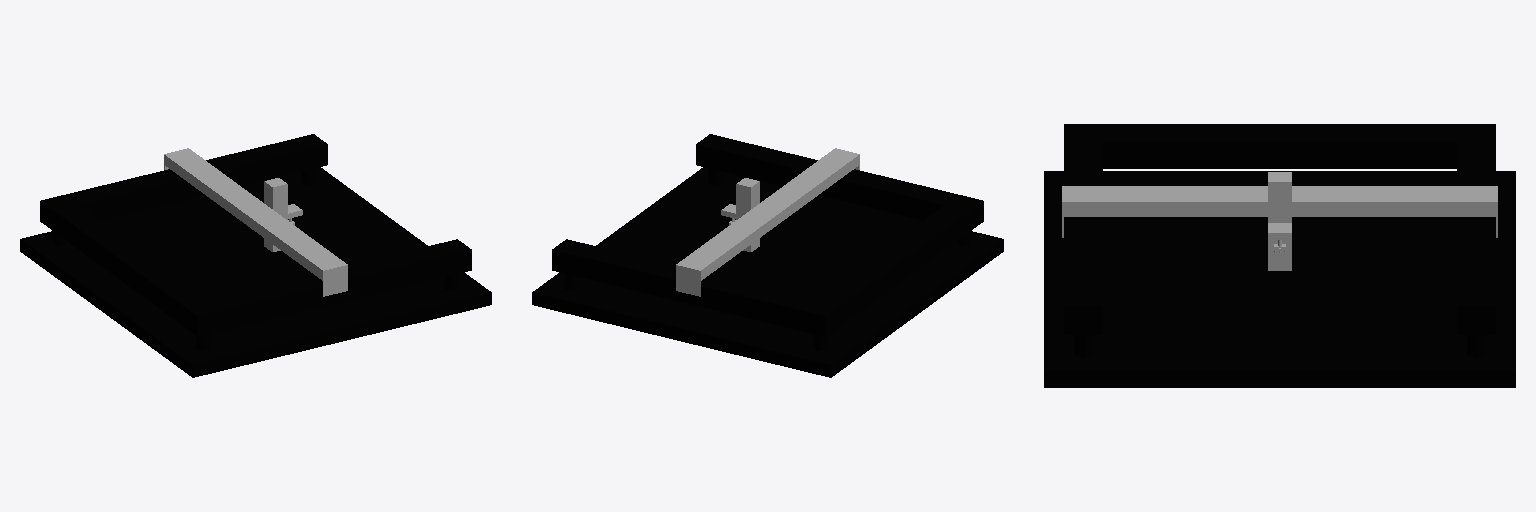
URDF robot description (robot_system):
<?xml version="1.0" ?>
<!-- =================================================================================== -->
<!-- |    This document was autogenerated by xacro from src/robot_system_description/urdf/robot_system.xacro | -->
<!-- |    EDITING THIS FILE BY HAND IS NOT RECOMMENDED                                 | -->
<!-- =================================================================================== -->
<robot name="robot_system">
  <material name="silver">
    <color rgba="0.700 0.700 0.700 1.000"/>
  </material>
  <material name="black">
    <color rgba="0.020 0.020 0.020 1.000"/>
  </material>
  <link name="world"/>
  <joint name="fixed_to_world" type="fixed">
    <parent link="world"/>
    <child link="base_link"/>
  </joint>
  <link name="base_link">
    <inertial>
      <origin rpy="0 0 0" xyz="-0.036965141881106514 -9.562908641042548e-17 0.06102885117512971"/>
      <mass value="764.5040316870028"/>
      <inertia ixx="110.516115" ixy="0.0" ixz="2.938225" iyy="99.10948" iyz="0.0" izz="203.495293"/>
    </inertial>
    <visual>
      <origin rpy="0 0 0" xyz="0 0 0"/>
      <geometry>
        <mesh filename="package://robot_system_description/meshes/base_link.stl" scale="0.001 0.001 0.001"/>
      </geometry>
      <material name="black"/>
    </visual>
    <collision>
      <origin rpy="0 0 0" xyz="0 0 0"/>
      <geometry>
        <mesh filename="package://robot_system_description/meshes/base_link.stl" scale="0.001 0.001 0.001"/>
      </geometry>
    </collision>
    <collision name="base_work_surface_collision">
      <origin rpy="0 0 0" xyz="0 0 0.0495"/>
      <geometry>
        <box size="1.2 1.2 0.001"/>
      </geometry>
    </collision>
  </link>
  <link name="y_link_1">
    <inertial>
      <origin rpy="0 0 0" xyz="0.030000000000000013 0.0 0.0"/>
      <mass value="0.18"/>
      <inertia ixx="0.000991490446" ixy="0.0" ixz="0.0" iyy="0.000991490446" iyz="0.0" izz="0.000108"/>
    </inertial>
    <visual>
      <origin rpy="0 0 0" xyz="-0.05 -0.0 -0.225"/>
      <geometry>
        <mesh filename="package://robot_system_description/meshes/y_link_1.stl" scale="0.001 0.001 0.001"/>
      </geometry>
      <material name="silver"/>
    </visual>
    <collision>
      <origin rpy="0 0 0" xyz="-0.05 -0.0 -0.225"/>
      <geometry>
        <mesh filename="package://robot_system_description/meshes/y_link_1.stl" scale="0.001 0.001 0.001"/>
      </geometry>
    </collision>
  </link>
  <link name="z_link_1">
    <inertial>
      <origin rpy="0 0 0" xyz="0.030000000000000013 -3.947459643111668e-18 0.0"/>
      <mass value="0.09"/>
      <inertia ixx="0.000029936306" ixy="0.0" ixz="0.0" iyy="0.000029936306" iyz="0.0" izz="0.000053980892"/>
    </inertial>
    <visual>
      <origin rpy="0 0 0" xyz="-0.11 -0.0 -0.225"/>
      <geometry>
        <mesh filename="package://robot_system_description/meshes/z_link_1.stl" scale="0.001 0.001 0.001"/>
      </geometry>
      <material name="silver"/>
    </visual>
    <collision>
      <origin rpy="0 0 0" xyz="-0.11 -0.0 -0.225"/>
      <geometry>
        <mesh filename="package://robot_system_description/meshes/z_link_1.stl" scale="0.001 0.001 0.001"/>
      </geometry>
    </collision>
  </link>
  <link name="theta_link_1">
    <inertial>
      <origin rpy="0 0 0" xyz="0.0001732869481511634 -1.9700445167097035e-18 -0.0303093012095626"/>
      <mass value="0.05"/>
      <inertia ixx="0.000008476712" ixy="0.0" ixz="0.0" iyy="0.000007063927" iyz="0.0" izz="0.000004238356"/>
    </inertial>
    <visual>
      <origin rpy="0 0 0" xyz="-0.14 0.0 -0.215"/>
      <geometry>
        <mesh filename="package://robot_system_description/meshes/theta_link_1.stl" scale="0.001 0.001 0.001"/>
      </geometry>
      <material name="silver"/>
    </visual>
    <collision name="picker_contact_collision">
      <origin rpy="0 0 0" xyz="0 0 -0.045"/>
      <geometry>
        <cylinder length="0.010" radius="0.0035"/>
      </geometry>
    </collision>
  </link>
  <link name="x_link_1">
    <inertial>
      <origin rpy="0 0 0" xyz="8.91814442532711e-18 0.55 0.07933333333333334"/>
      <mass value="0.45"/>
      <inertia ixx="0.04749504459" ixy="0.0" ixz="0.0" iyy="0.000450802548" iyz="0.0" izz="0.04779425478"/>
    </inertial>
    <visual>
      <origin rpy="0 0 0" xyz="-0.0 0.55 -0.165"/>
      <geometry>
        <mesh filename="package://robot_system_description/meshes/x_link_1.stl" scale="0.001 0.001 0.001"/>
      </geometry>
      <material name="silver"/>
    </visual>
    <collision>
      <origin rpy="0 0 0" xyz="-0.0 0.55 -0.165"/>
      <geometry>
        <mesh filename="package://robot_system_description/meshes/x_link_1.stl" scale="0.001 0.001 0.001"/>
      </geometry>
    </collision>
  </link>
  <joint name="joint_y" type="prismatic">
    <origin rpy="0 0 0" xyz="0.05 0.55 0.06"/>
    <parent link="x_link_1"/>
    <child link="y_link_1"/>
    <axis xyz="0.0 -1.0 0.0"/>
    <limit effort="8" lower="-0.405" upper="0.405" velocity="0.2"/>
    <dynamics damping="3.0" friction="0.0"/>
  </joint>
  <joint name="joint_z" type="prismatic">
    <origin rpy="0 0 0" xyz="0.06 0.0 0.0"/>
    <parent link="y_link_1"/>
    <child link="z_link_1"/>
    <axis xyz="0.0 0.0 1.0"/>
    <limit effort="6" lower="-0.115" upper="0.115" velocity="0.25"/>
    <dynamics damping="0.8" friction="0.0"/>
  </joint>
  <joint name="joint_theta" type="continuous">
    <origin rpy="0 0 0" xyz="0.03 -0.0 -0.01"/>
    <parent link="z_link_1"/>
    <child link="theta_link_1"/>
    <axis xyz="-0.0 0.0 -1.0"/>
    <limit effort="0.2" velocity="3.14"/>
    <dynamics damping="0.0002" friction="0.0"/>
  </joint>
  <joint name="joint_x" type="prismatic">
    <origin rpy="0 0 0" xyz="0.0 -0.55 0.165"/>
    <parent link="base_link"/>
    <child link="x_link_1"/>
    <axis xyz="1.0 0.0 0.0"/>
    <limit effort="12" lower="-0.4" upper="0.4" velocity="0.2"/>
    <dynamics damping="6.0" friction="0.0"/>
  </joint>
  <gazebo reference="theta_link_1">
    <selfCollide>true</selfCollide>
    <kp>1000000.0</kp>
    <kd>100.0</kd>
    <maxVel>0.01</maxVel>
    <minDepth>0.0</minDepth>
    <sensor name="picker_contact_sensor" type="contact">
      <topic>/model/robot_system/picker/contact</topic>
      <contact>
        <collision>theta_link_1_fixed_joint_lump__picker_contact_collision_collision</collision>
      </contact>
      <always_on>1</always_on>
      <update_rate>50</update_rate>
    </sensor>
  </gazebo>
  <gazebo reference="theta_link_1">
    <sensor name="macro_camera" type="camera">
      <update_rate>2.0</update_rate>
      <topic>vision/macro_camera/image_raw</topic>
      <camera>
        <horizontal_fov>1.047</horizontal_fov>
        <image>
          <width>1920</width>
          <height>1080</height>
        </image>
        <clip>
          <near>0.01</near>
          <far>100</far>
        </clip>
      </camera>
      <always_on>0</always_on>
      <visualize>false</visualize>
      <pose>0.0125 0 -0.038 0 1.5708 1.5708</pose>
    </sensor>
  </gazebo>
  <gazebo reference="theta_link_1">
    <sensor name="micro_camera_1" type="camera">
      <update_rate>2.0</update_rate>
      <topic>vision/micro_camera_1/image_raw</topic>
      <camera>
        <horizontal_fov>0.11</horizontal_fov>
        <image>
          <width>1920</width>
          <height>1080</height>
        </image>
        <clip>
          <near>0.005</near>
          <far>100</far>
        </clip>
      </camera>
      <always_on>0</always_on>
      <visualize>false</visualize>
      <pose> 0.006  0.006 -0.0435 0 1.5708 1.5708</pose>
    </sensor>
  </gazebo>
  <gazebo reference="theta_link_1">
    <sensor name="micro_camera_2" type="camera">
      <update_rate>2.0</update_rate>
      <topic>vision/micro_camera_2/image_raw</topic>
      <camera>
        <horizontal_fov>0.11</horizontal_fov>
        <image>
          <width>1920</width>
          <height>1080</height>
        </image>
        <clip>
          <near>0.005</near>
          <far>100</far>
        </clip>
      </camera>
      <always_on>0</always_on>
      <visualize>false</visualize>
      <pose> -0.006  0.006 -0.0435 0 1.5708 1.5708</pose>
    </sensor>
  </gazebo>
  <gazebo reference="theta_link_1">
    <sensor name="micro_camera_3" type="camera">
      <update_rate>2.0</update_rate>
      <topic>vision/micro_camera_3/image_raw</topic>
      <camera>
        <horizontal_fov>0.11</horizontal_fov>
        <image>
          <width>1920</width>
          <height>1080</height>
        </image>
        <clip>
          <near>0.005</near>
          <far>100</far>
        </clip>
      </camera>
      <always_on>0</always_on>
      <visualize>false</visualize>
      <pose> -0.006  -0.006 -0.0435 0 1.5708 1.5708</pose>
    </sensor>
  </gazebo>
  <gazebo reference="theta_link_1">
    <sensor name="micro_camera_4" type="camera">
      <update_rate>2.0</update_rate>
      <topic>vision/micro_camera_4/image_raw</topic>
      <camera>
        <horizontal_fov>0.11</horizontal_fov>
        <image>
          <width>1920</width>
          <height>1080</height>
        </image>
        <clip>
          <near>0.005</near>
          <far>100</far>
        </clip>
      </camera>
      <always_on>0</always_on>
      <visualize>false</visualize>
      <pose> 0.006  -0.006 -0.0435 0 1.5708 1.5708</pose>
    </sensor>
  </gazebo>
  <gazebo>
    <plugin filename="libignition-gazebo-joint-state-publisher-system.so" name="ignition::gazebo::systems::JointStatePublisher">
      <topic>/model/robot_system/joint_state</topic>
      <joint_name>joint_x</joint_name>
      <joint_name>joint_y</joint_name>
      <joint_name>joint_z</joint_name>
      <joint_name>joint_theta</joint_name>
    </plugin>
    <plugin filename="libignition-gazebo-joint-position-controller-system.so" name="ignition::gazebo::systems::JointPositionController">
      <joint_name>joint_x</joint_name>
      <topic>/model/robot_system/joint/joint_x/cmd_pos</topic>
      <p_gain>220.0</p_gain>
      <i_gain>0.0</i_gain>
      <d_gain>20.0</d_gain>
      <cmd_max>12.0</cmd_max>
      <cmd_min>-12.0</cmd_min>
    </plugin>
    <plugin filename="libignition-gazebo-joint-position-controller-system.so" name="ignition::gazebo::systems::JointPositionController">
      <joint_name>joint_y</joint_name>
      <topic>/model/robot_system/joint/joint_y/cmd_pos</topic>
      <p_gain>140.0</p_gain>
      <i_gain>0.0</i_gain>
      <d_gain>10.5</d_gain>
      <cmd_max>8.0</cmd_max>
      <cmd_min>-8.0</cmd_min>
    </plugin>
    <plugin filename="libignition-gazebo-joint-position-controller-system.so" name="ignition::gazebo::systems::JointPositionController">
      <joint_name>joint_z</joint_name>
      <topic>/model/robot_system/joint/joint_z/cmd_pos</topic>
      <p_gain>2600.0</p_gain>
      <i_gain>1200.0</i_gain>
      <d_gain>40.0</d_gain>
      <i_max>3.0</i_max>
      <i_min>-3.0</i_min>
      <cmd_max>6.0</cmd_max>
      <cmd_min>-6.0</cmd_min>
    </plugin>
  </gazebo>
  <gazebo>
    <plugin filename="libignition-gazebo-joint-position-controller-system.so" name="ignition::gazebo::systems::JointPositionController">
      <joint_name>joint_theta</joint_name>
      <topic>/model/robot_system/joint/joint_theta/cmd_pos</topic>
      <p_gain>0.05</p_gain>
      <i_gain>0.0</i_gain>
      <d_gain>0.0008</d_gain>
      <cmd_max>0.2</cmd_max>
      <cmd_min>-0.2</cmd_min>
    </plugin>
  </gazebo>
</robot>

--- What the picture shows (computed from the rendered views, not written in the file) ---
The picture shows the robot from 3 angles, left to right: view 1: azimuth 30°, elevation 25°; view 2: azimuth 150°, elevation 25°; view 3: azimuth 270°, elevation 25°; orthographic projection.
Robot: robot_system — 6 links, 5 joints (1 continuous, 3 prismatic, 1 fixed); root link world; default pose: every joint at zero.
Visible links, largest first — view 1: base_link, x_link_1, y_link_1; view 2: base_link, x_link_1, y_link_1; view 3: base_link, x_link_1, y_link_1.
Link boxes in pixels (x1,y1,x2,y2): base_link: (20,134,491,377); x_link_1: (164,148,347,296); y_link_1: (264,178,287,251); base_link: (532,134,1003,377); x_link_1: (676,148,859,296); y_link_1: (736,178,759,251); base_link: (1044,124,1515,387); x_link_1: (1062,186,1497,237); y_link_1: (1268,172,1291,270).
Bounding box of the posed robot: 1.2 × 1.2 × 0.35 m (x, y, z).
5 mesh visuals loaded from 5 distinct referenced files (5 binary STL).
